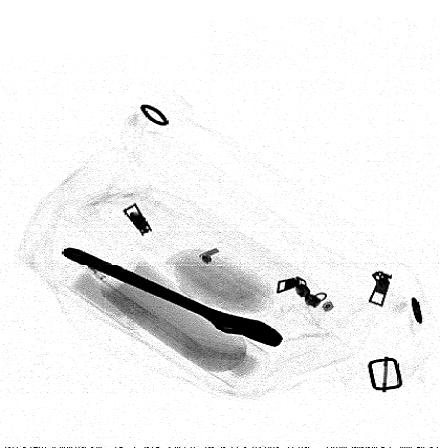Wrench: (60, 247, 284, 347)
